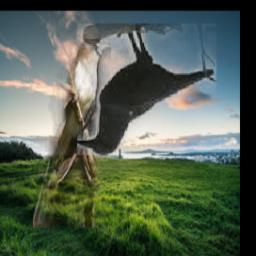Crow: (77, 24, 216, 156)
Cuckoo: (32, 40, 110, 229)
